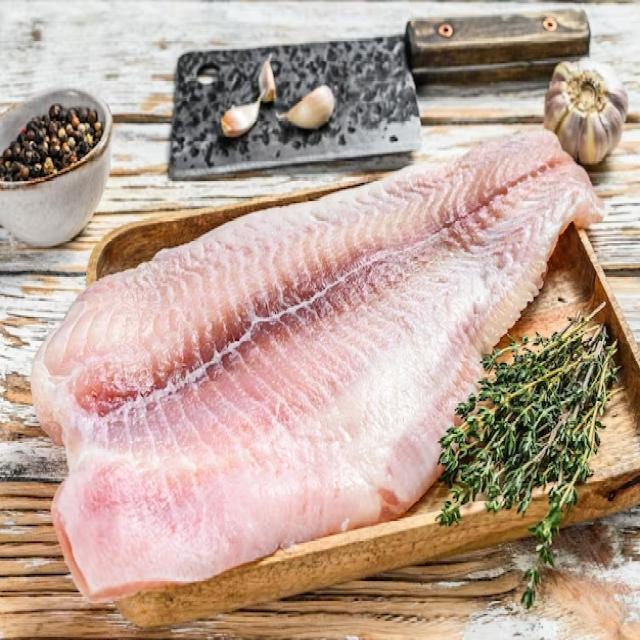Black pepper: (0, 107, 45, 177)
Catfish: (31, 126, 624, 600)
Garlic: (535, 50, 629, 164), (275, 87, 343, 139), (216, 102, 271, 132), (254, 51, 276, 103)
Thyme: (429, 277, 625, 605)
